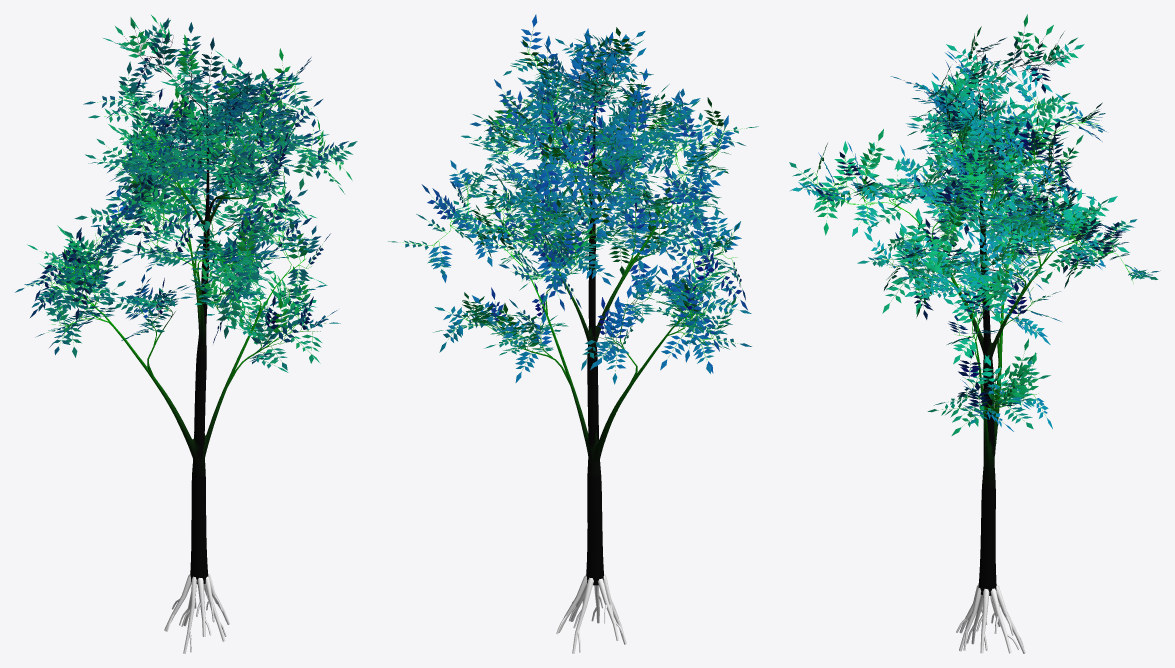
The picture shows the model from 3 angles, left to right: view 1: azimuth 30°, elevation 25°; view 2: azimuth 150°, elevation 25°; view 3: azimuth 270°, elevation 25°; orthographic projection.
Parts seen in each view (by area): view 1: Foliage, Twigs, Trunk, RootTips, Branches; view 2: Foliage, Twigs, Trunk, RootTips, Branches; view 3: Foliage, Twigs, Trunk, RootTips, Branches.
Boxes of the visible parts, x1,y1,x2,y2 form: Foliage: (15, 15, 357, 372); Twigs: (27, 28, 345, 389); Trunk: (190, 151, 209, 584); RootTips: (164, 573, 229, 653); Branches: (99, 172, 270, 461); Foliage: (388, 14, 758, 384); Twigs: (400, 29, 744, 385); Trunk: (586, 174, 603, 585); RootTips: (556, 574, 626, 653); Branches: (534, 163, 649, 463); Foliage: (789, 14, 1160, 435); Twigs: (797, 32, 1150, 426); Trunk: (978, 189, 996, 595); RootTips: (956, 584, 1025, 653); Branches: (950, 186, 1030, 472).
Bounding box in the file's own units: 12254 × 12451 × 23103.
